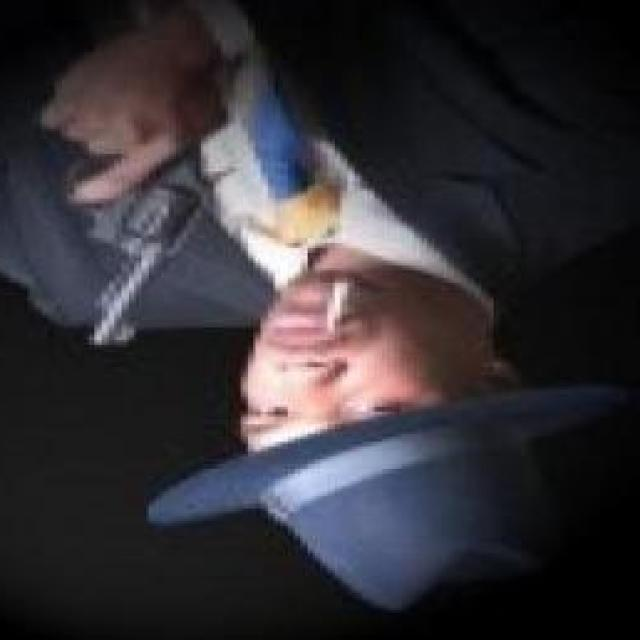pistol: (55, 0, 228, 350)
